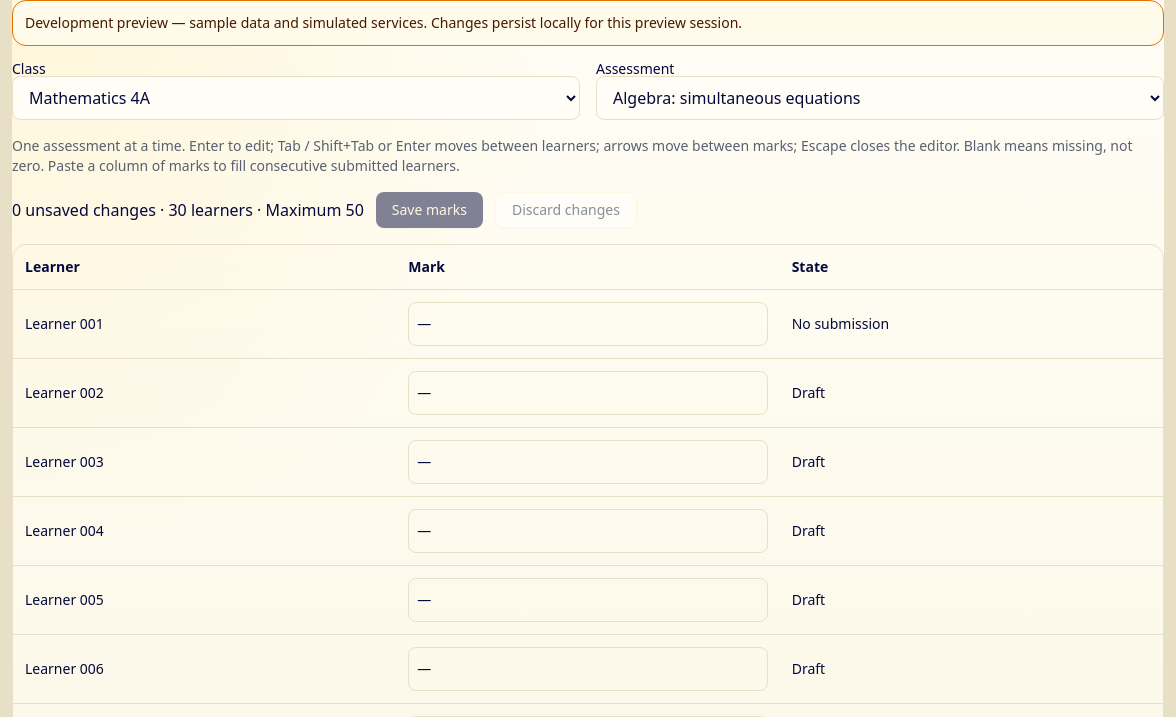
Test: Controlled gradebook › disables saving out-of-range scores
Click the button named "Mark for Learner 002: missing" at (424, 392), box [408,371,768,415]
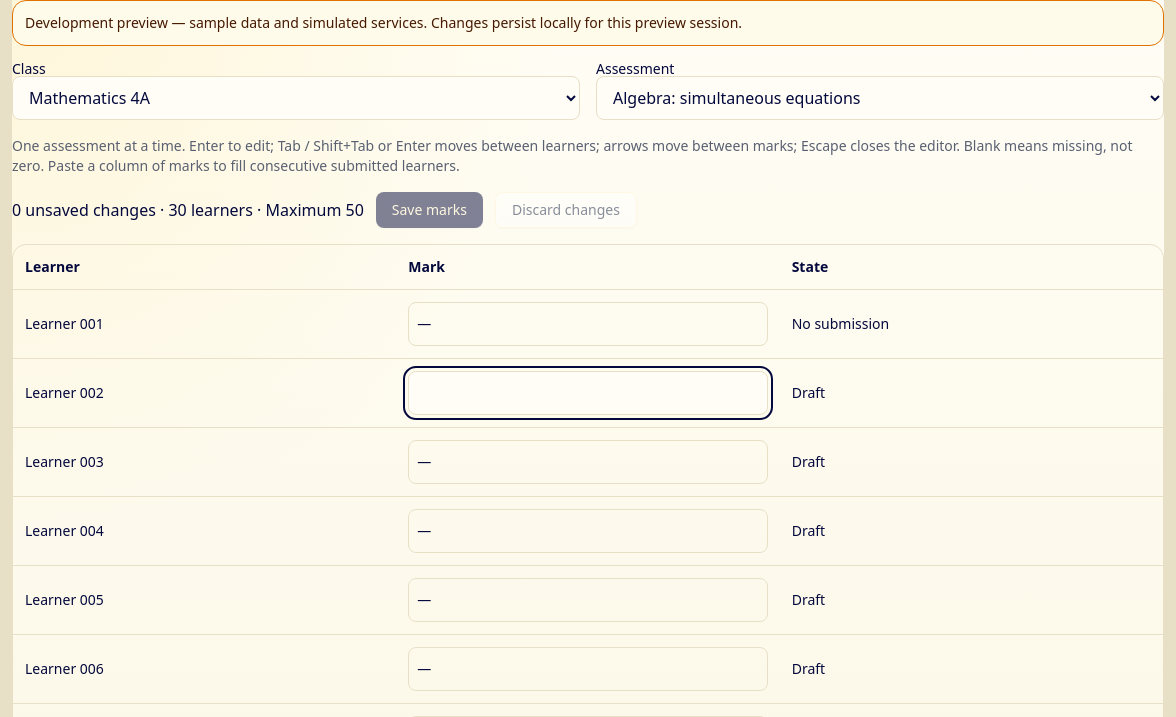
Type "51" into the field named "Mark for Learner 002" at (588, 393), box [408,371,768,415]
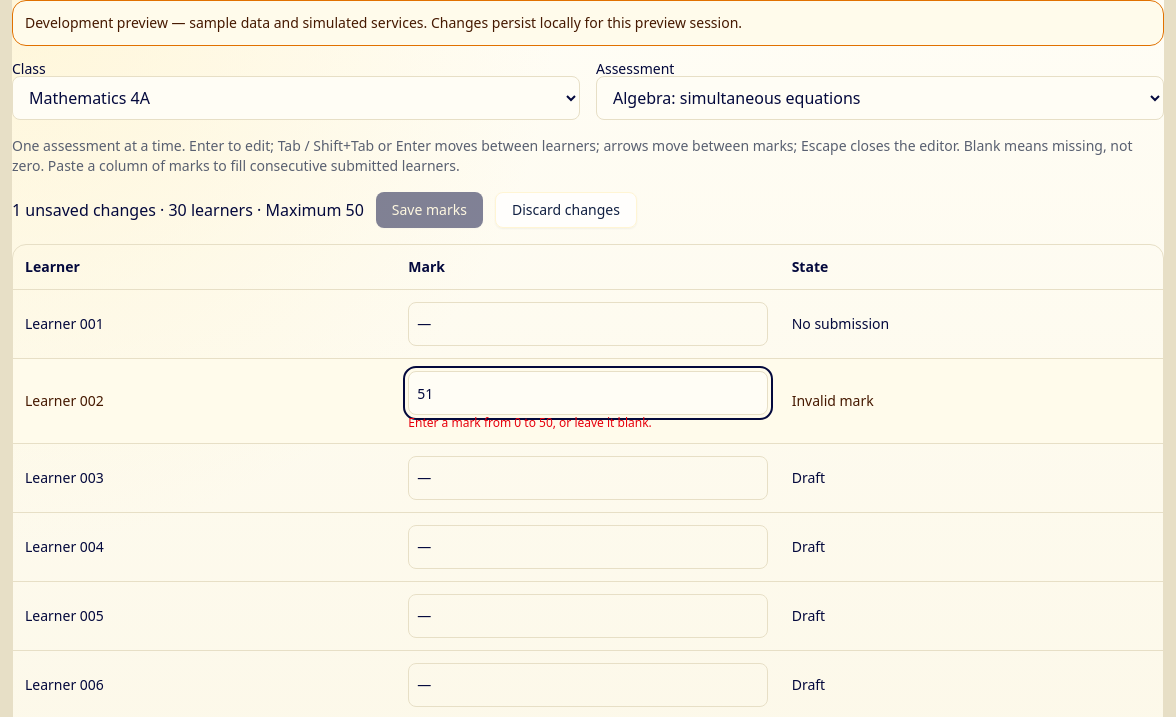
Expected: the button "Save marks" is disabled, [376,192,483,228]
Expected: the message "Enter a mark from 0 to 50, or leave it blank." is shown, [408,414,652,431]
